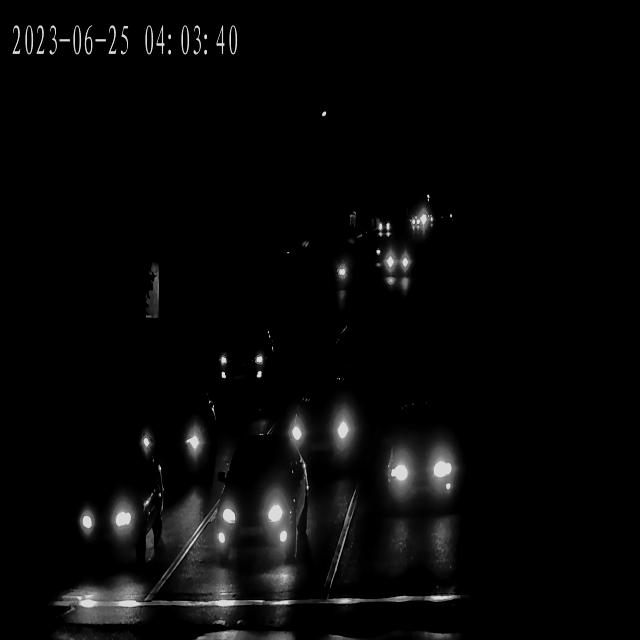Car: (209, 442, 310, 569), (65, 454, 166, 568), (368, 412, 465, 517), (128, 386, 218, 477), (280, 376, 366, 468), (213, 321, 276, 382), (380, 248, 412, 282), (373, 218, 393, 236), (407, 216, 427, 232)
